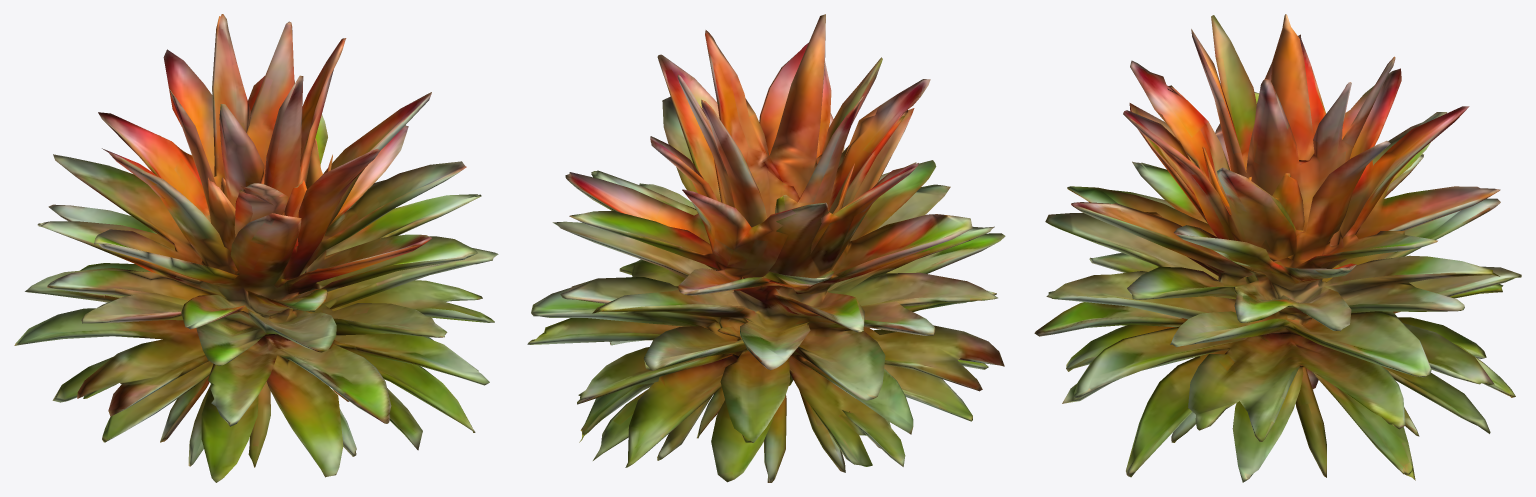
The model's file is PRP_Pineapple.glb.
3 views of the same model, side by side, from view 1: azimuth 30°, elevation 25°; view 2: azimuth 150°, elevation 25°; view 3: azimuth 270°, elevation 25° (orthographic).
Visible parts, largest first — view 1: Object_2; view 2: Object_2; view 3: Object_2.
Part boxes in pixels (x1,y1,x2,y2): Object_2: [14, 14, 498, 482]; Object_2: [527, 14, 1005, 482]; Object_2: [1034, 14, 1521, 482].
Size of the model in its own units: 0.2282 by 0.2091 by 0.2299.
Materials: 1 (1 with a texture image).
